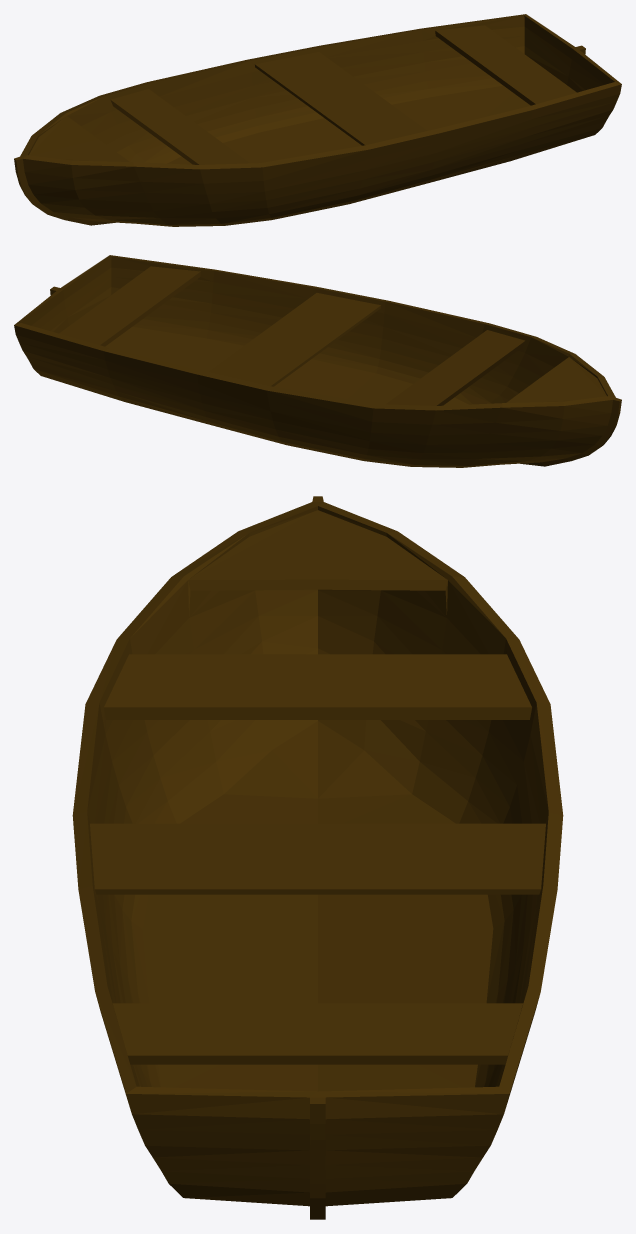
The model's file is boat.fbx.
3 renders of one model, top to bottom at view 1: azimuth 30°, elevation 25°; view 2: azimuth 150°, elevation 25°; view 3: azimuth 270°, elevation 25°, orthographic. The views are drawn at different scales.
Parts seen in each view (by area): view 1: Boat01; view 2: Boat01; view 3: Boat01.
Part boxes in pixels (box(x1,y1,x2,y2)): Boat01: box(14, 14, 621, 226); Boat01: box(14, 255, 621, 467); Boat01: box(72, 496, 563, 1219).
Bounding box in the file's own units: 328 × 52.86 × 123.
